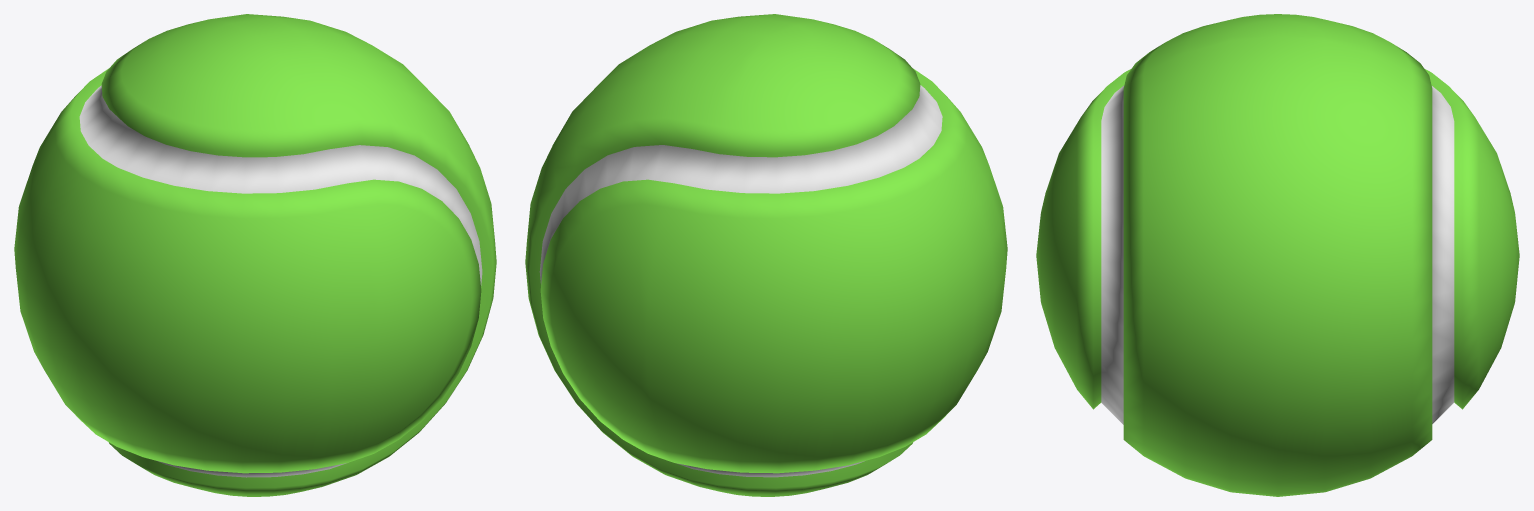
File: Tennis_ball.fbx
3 renders of one model, left to right at view 1: azimuth 30°, elevation 25°; view 2: azimuth 150°, elevation 25°; view 3: azimuth 270°, elevation 25°, orthographic.
Parts seen in each view (by area): view 1: Sphere; view 2: Sphere; view 3: Sphere.
Boxes of the visible parts, x1,y1,x2,y2 form: Sphere: (14,14,496,496); Sphere: (525,14,1007,496); Sphere: (1036,14,1519,496).
Size of the model in its own units: 200 by 200 by 200.
